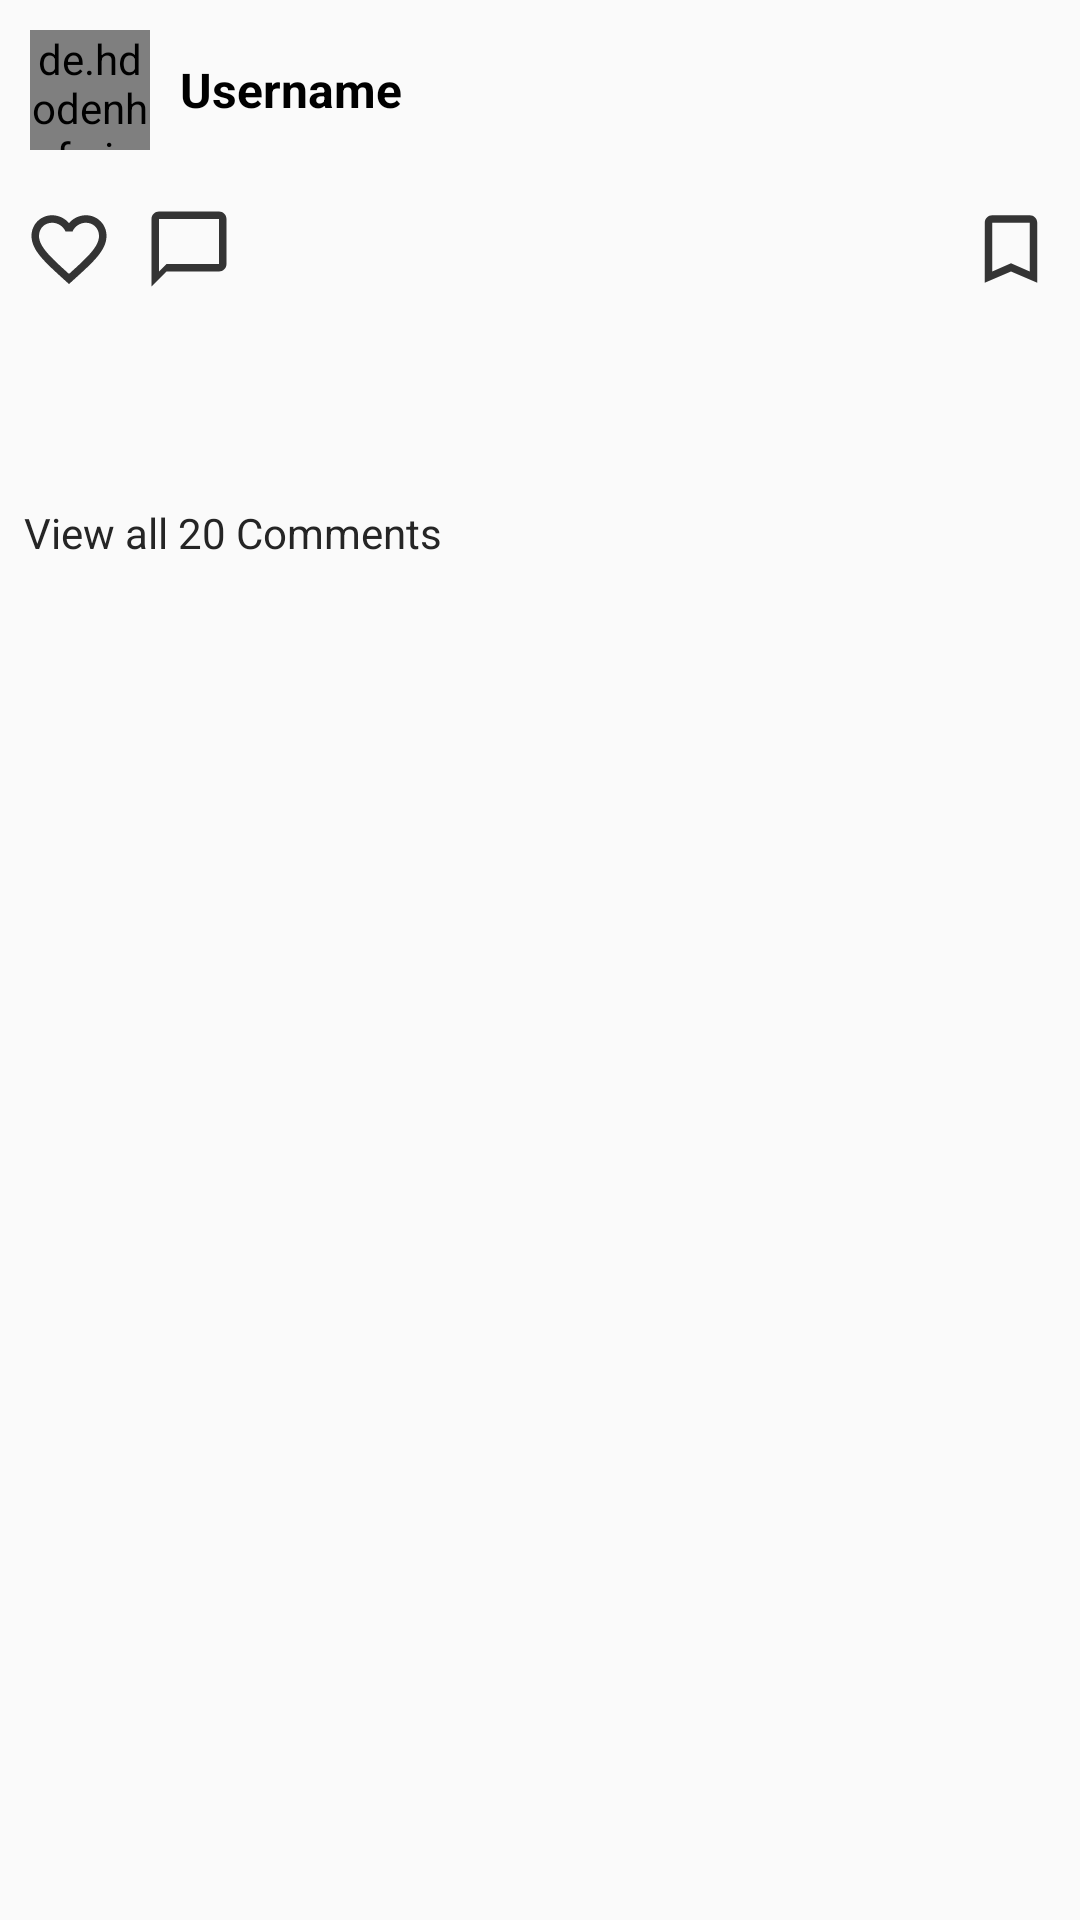

Icons on this 1080px x 1920px Android screen, each with the point to tap as (x=x, y=y):
comment: (x=189, y=249)
like: (x=69, y=249)
save: (x=1011, y=249)
